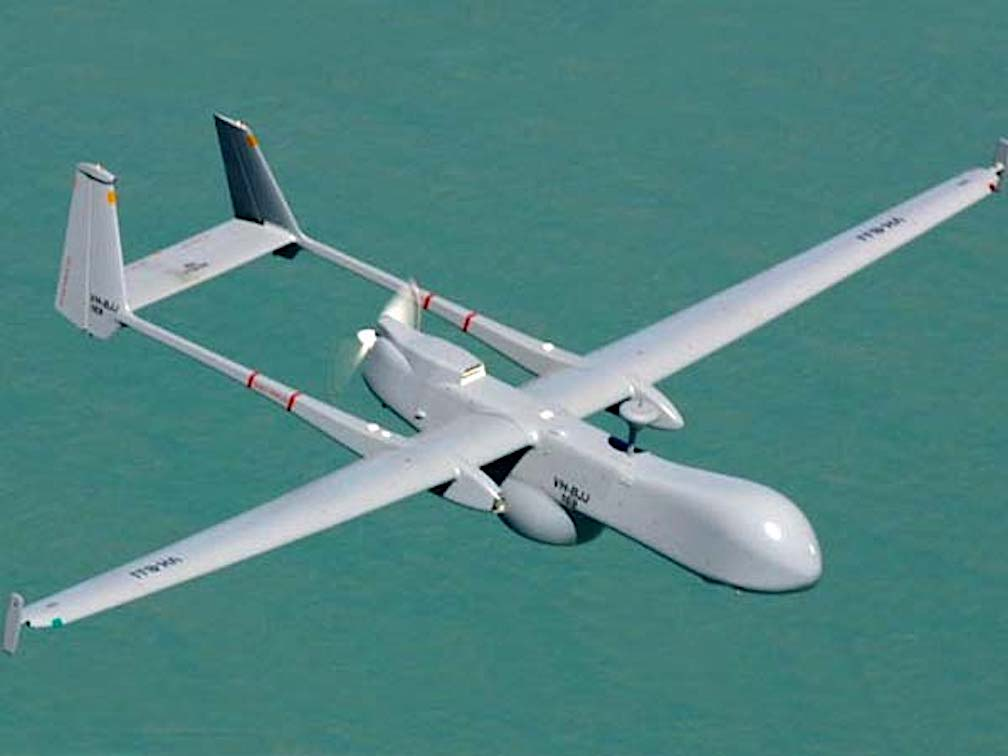military drone: (0, 110, 1008, 655)
